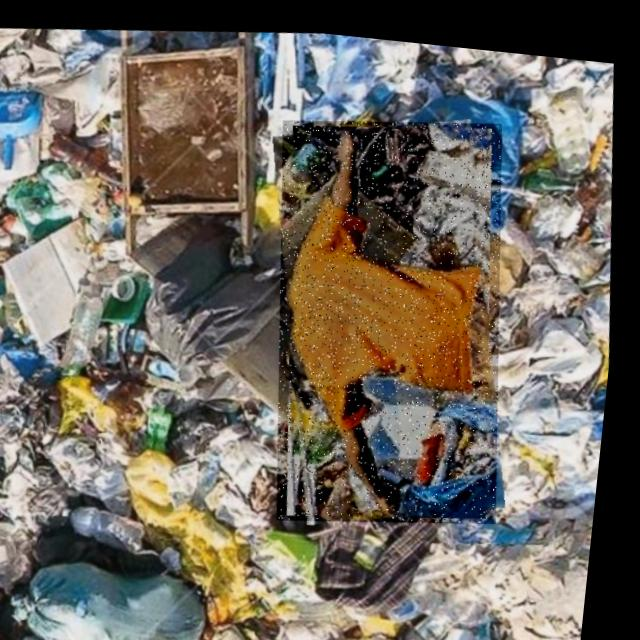Person in Rubble: (252, 94, 538, 529)
